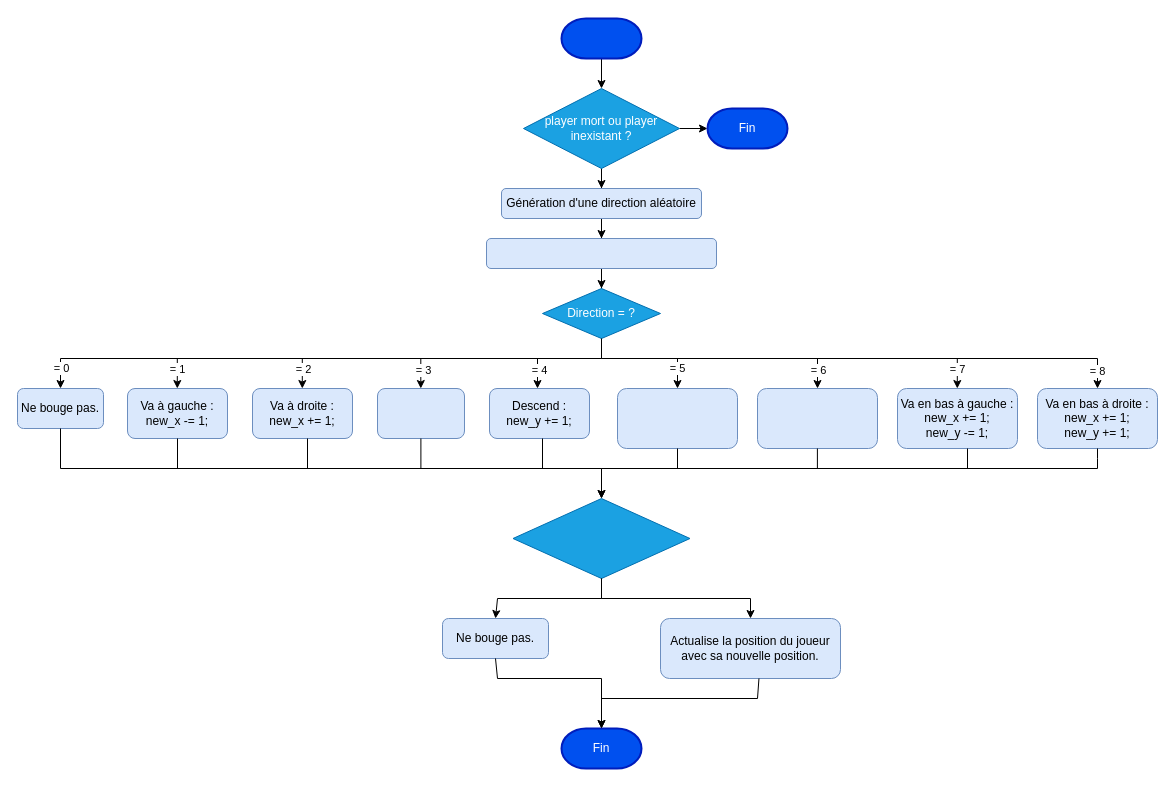
This 1175x786 diagram has some shape labels left out. The shapes that lost their labels are listed below. From the top down, each one's box as (x1, y1, x2, y2) in pixels, then its label:
(560, 17, 642, 59): Début
(486, 238, 716, 268): Initialisation des nouvelles positions x et y
(376, 388, 464, 438): Monte : new_y -= 1;
(616, 388, 738, 448): Va en haut à gauche : new_x -= 1; new_y -= 1;
(756, 388, 878, 448): Va en haut à droite : new_x -= 1; new_y += 1;
(512, 498, 690, 578): Teste si la position est valide
